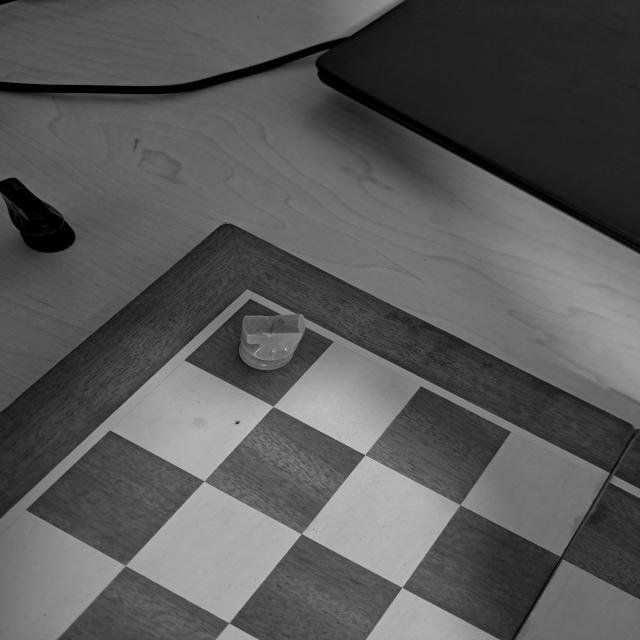chess-table-corners: (214, 280, 286, 318)
